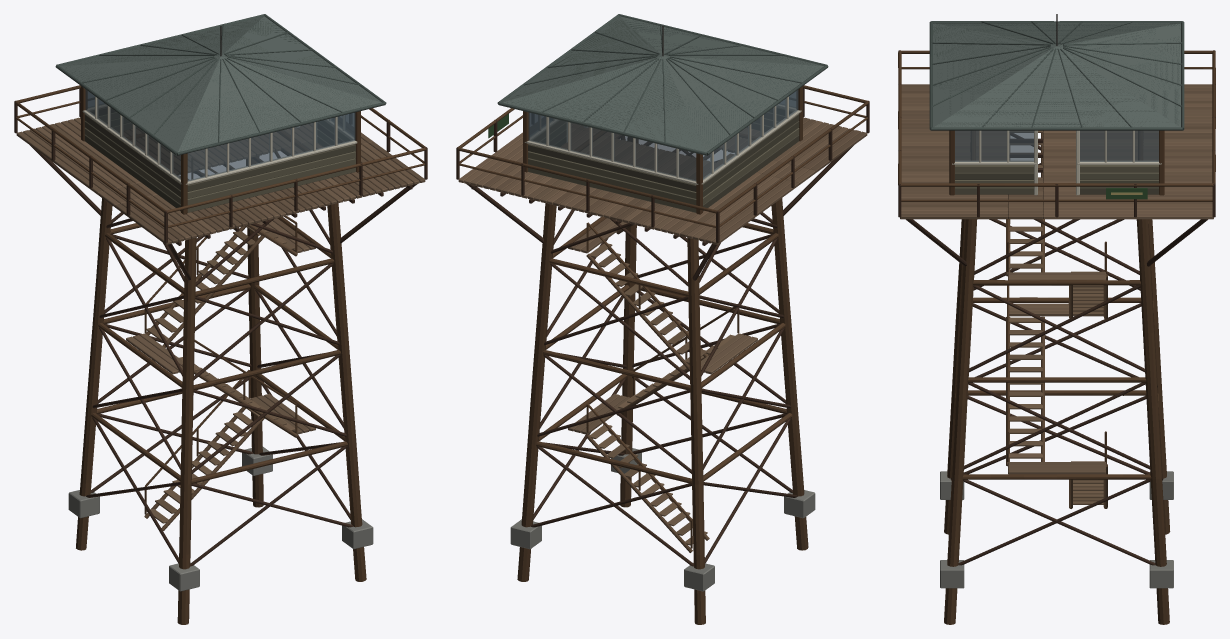
Rendered from lookout.glb.
3 views of the same model, side by side, from view 1: azimuth 30°, elevation 25°; view 2: azimuth 150°, elevation 25°; view 3: azimuth 270°, elevation 25° (orthographic). The views are drawn at different scales.
Parts seen in each view (by area): view 1: lookout-frame, lookout-roof, lookout-floor-cab, lookout-wall-south, lookout-rail, lookout-window-south, lookout-wall-west, lookout-stair-1, lookout-stair-3, lookout-window-west, lookout-stair-2, lookout-wall-posts (+4 smaller); view 2: lookout-frame, lookout-roof, lookout-floor-cab, lookout-wall-north, lookout-rail, lookout-window-north, lookout-wall-west, lookout-stair-1, lookout-stair-3, lookout-window-west, lookout-stair-2, lookout-wall-posts (+4 smaller); view 3: lookout-frame, lookout-roof, lookout-floor-cab, lookout-wall-east, lookout-window-east, lookout-rail, lookout-stair-2, lookout-stair-4, lookout-stair-3, lookout-floor-landing-1, lookout-stair-1, lookout-floor-landing-3 (+2 smaller).
Boxes of the visible parts, box(x1,y1,x2,y2) form: lookout-frame: box(30, 130, 417, 624); lookout-roof: box(55, 14, 386, 155); lookout-floor-cab: box(16, 117, 425, 244); lookout-wall-south: box(186, 117, 357, 212); lookout-rail: box(14, 85, 427, 242); lookout-window-south: box(187, 112, 355, 181); lookout-wall-west: box(82, 96, 181, 211); lookout-stair-1: box(144, 370, 264, 530); lookout-stair-3: box(144, 225, 264, 347); lookout-window-west: box(85, 89, 180, 179); lookout-stair-2: box(179, 340, 297, 437); lookout-wall-posts: box(81, 86, 360, 214); lookout-frame: box(466, 130, 853, 624); lookout-roof: box(497, 14, 828, 155); lookout-floor-cab: box(458, 117, 867, 244); lookout-wall-north: box(524, 116, 698, 212); lookout-rail: box(456, 85, 869, 242); lookout-window-north: box(528, 112, 696, 181); lookout-wall-west: box(701, 96, 801, 211); lookout-stair-1: box(586, 404, 709, 552); lookout-stair-3: box(586, 222, 707, 371); lookout-window-west: box(703, 89, 798, 179); lookout-stair-2: box(617, 306, 739, 415); lookout-wall-posts: box(523, 86, 802, 214); lookout-frame: box(906, 131, 1207, 624); lookout-roof: box(929, 14, 1184, 130); lookout-floor-cab: box(900, 84, 1213, 219); lookout-wall-east: box(952, 130, 1161, 195); lookout-window-east: box(955, 130, 1158, 161); lookout-rail: box(898, 50, 1215, 217); lookout-stair-2: box(1006, 285, 1044, 466); lookout-stair-4: box(1006, 130, 1044, 276); lookout-stair-3: box(1068, 241, 1107, 319); lookout-floor-landing-1: box(1008, 462, 1105, 474); lookout-stair-1: box(1069, 431, 1107, 508); lookout-floor-landing-3: box(1008, 272, 1105, 280).
Bounding box in the file's own units: 9.12 × 17.81 × 9.1.
